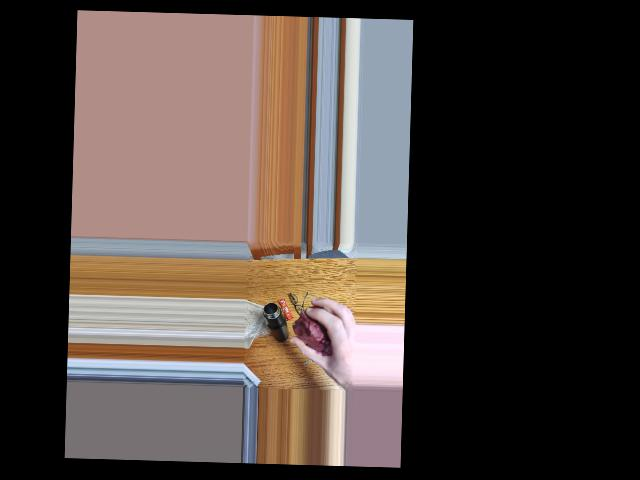onion: (296, 309, 335, 356)
